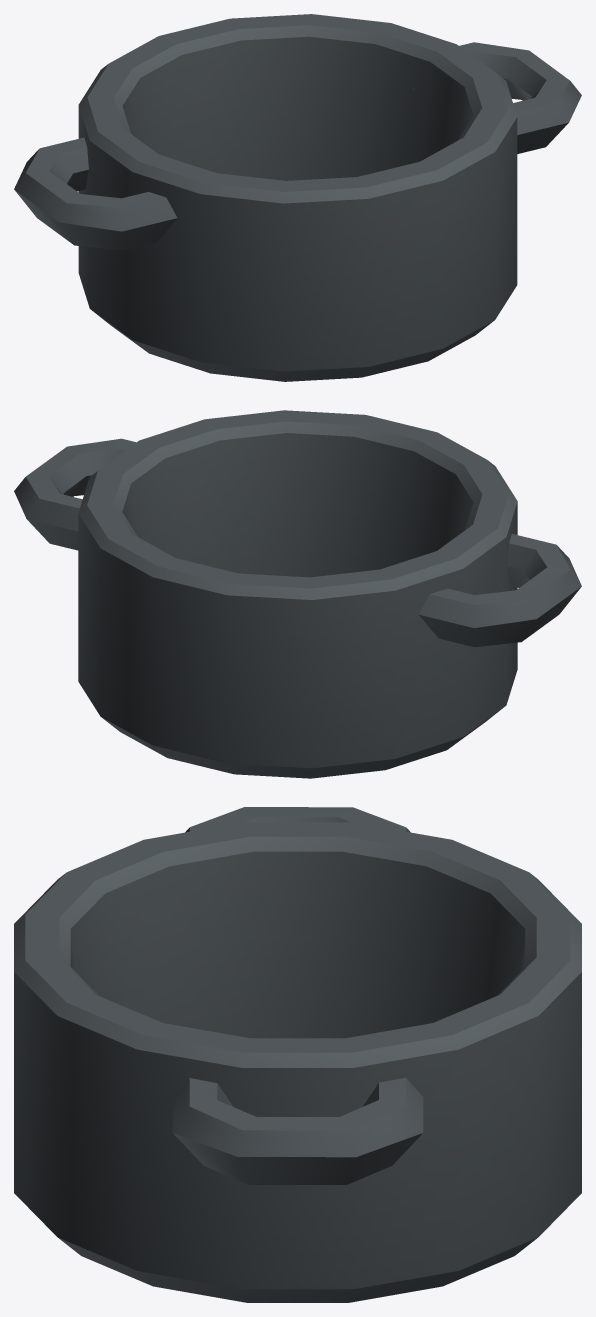
Rendered from kay-pot_b.glb.
3 views of the same model, one above another, from view 1: azimuth 30°, elevation 25°; view 2: azimuth 150°, elevation 25°; view 3: azimuth 270°, elevation 25° (orthographic). The views are drawn at different scales.
Parts seen in each view (by area): view 1: pot_B; view 2: pot_B; view 3: pot_B.
Part boxes in pixels (x1,y1,x2,y2): pot_B: (14,14,581,381); pot_B: (14,410,581,778); pot_B: (14,807,581,1302).
Size of the model in its own units: 0.22 by 0.0786 by 0.1571.
1 material, 1 textured.
